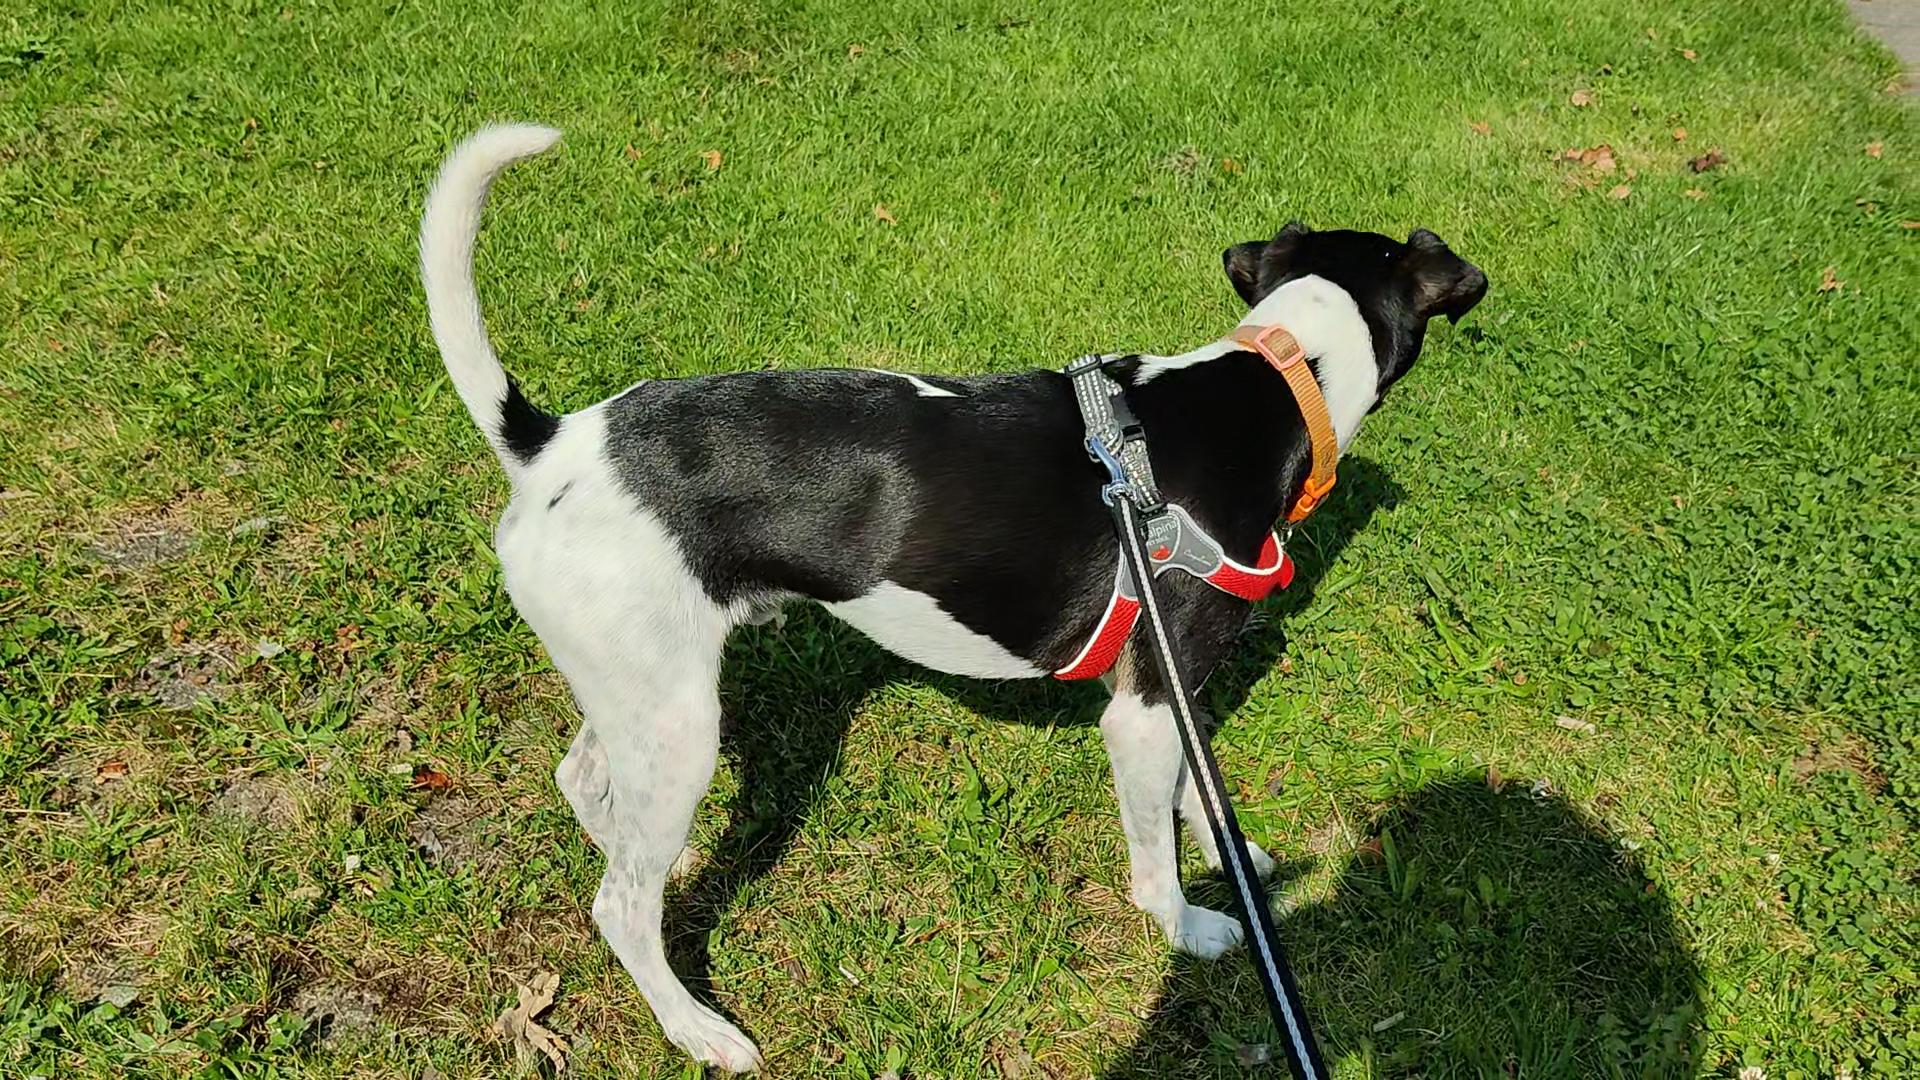Dog: (407, 103, 1493, 1077)
